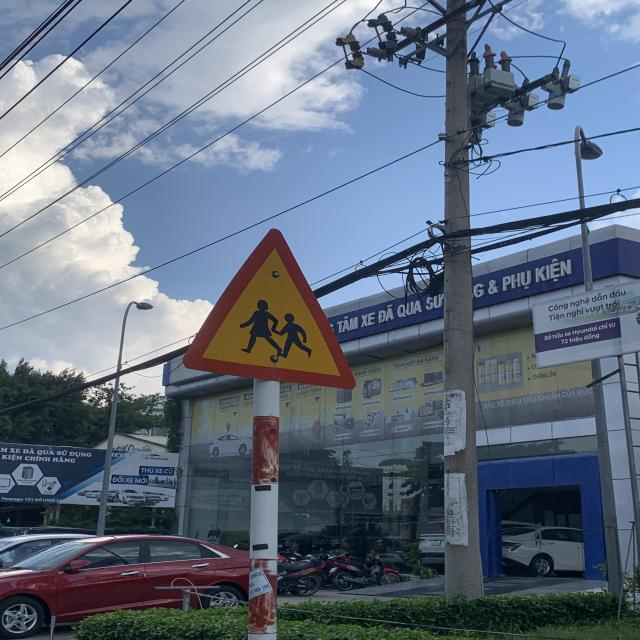Vong_Xuyen: (178, 227, 360, 390)
